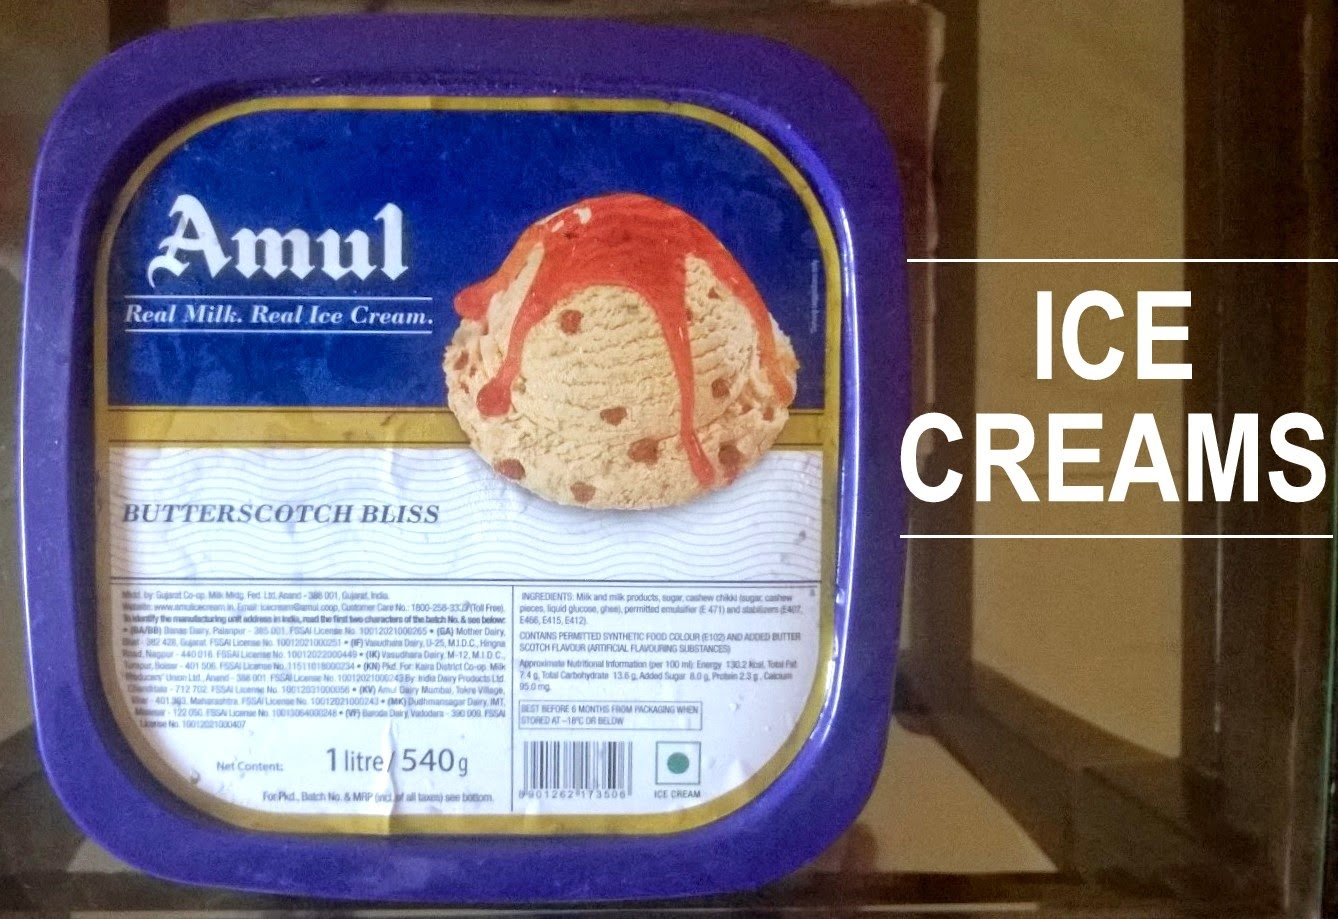VEG: (651, 737, 704, 790)
